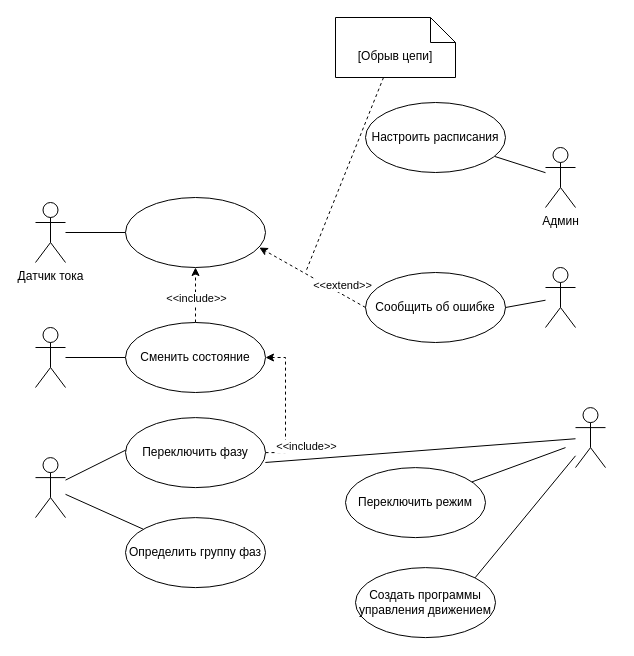
The diagram is 634 pixels wide and 656 high, and some of its shapes have lost their labels. Here are the shapes that lost their labels. From the top down, the centre of each, then its label:
At [195,232]: "Проверить исправность".
At [560,297]: "Message serv".
At [50,357]: "Светофор".
At [590,437]: "Оператор".
At [50,487]: "Время".
